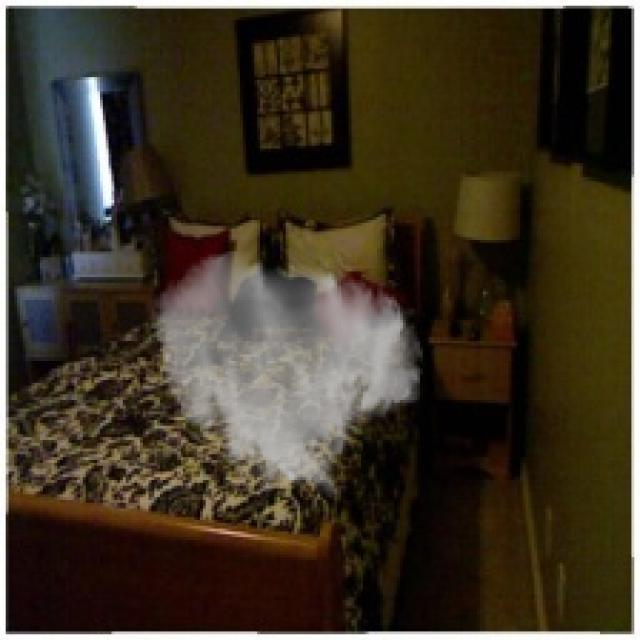Smoke: (148, 248, 426, 501)
